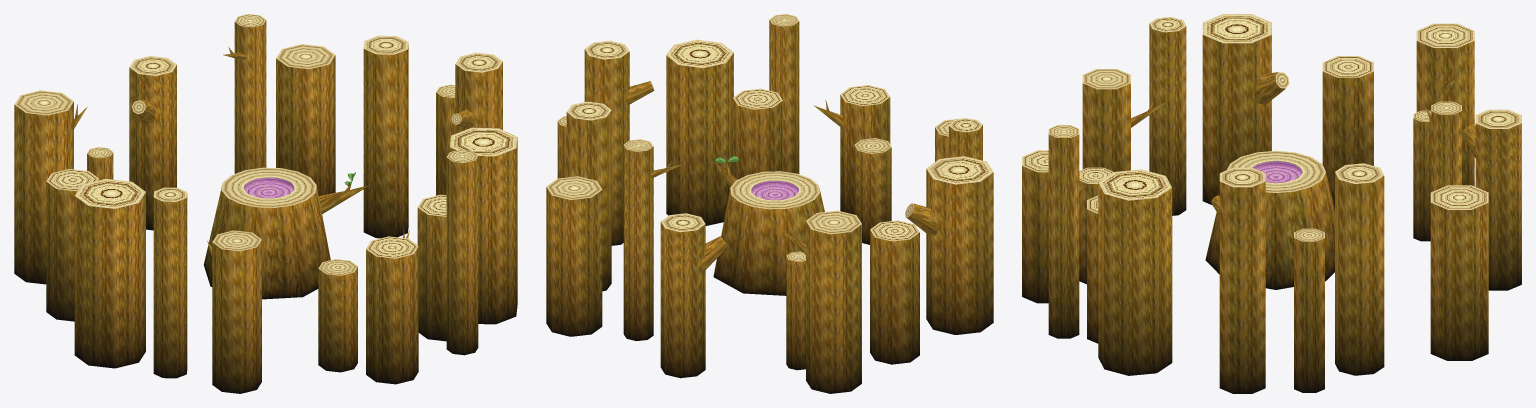
Rendered from ex_mario_all.glb.
3 renders of one model, left to right at view 1: azimuth 30°, elevation 25°; view 2: azimuth 150°, elevation 25°; view 3: azimuth 270°, elevation 25°, orthographic. The views are drawn at different scales.
Parts seen in each view (by area): view 1: ex_mario_all; view 2: ex_mario_all; view 3: ex_mario_all.
Boxes of the visible parts, x1,y1,x2,y2 form: ex_mario_all: (14, 14, 517, 393); ex_mario_all: (546, 14, 993, 393); ex_mario_all: (1022, 14, 1521, 393).
Bounding box in the file's own units: 18.16 × 8.3 × 17.96.
Materials: 4 (4 with a texture image).
